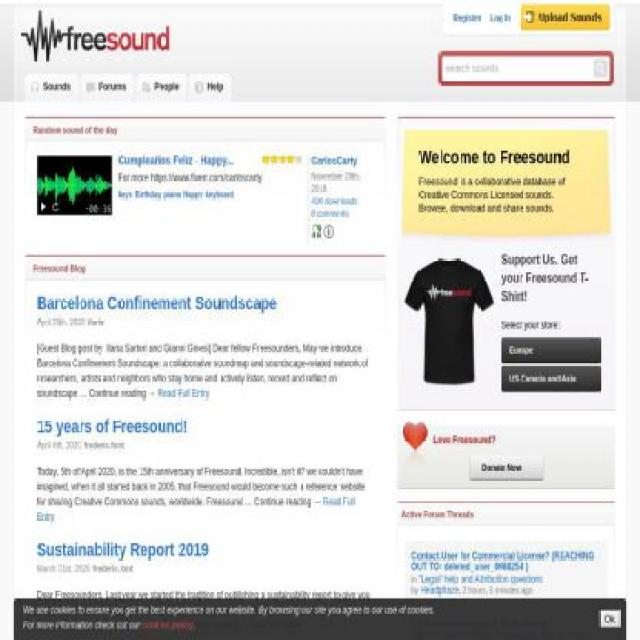button: (410, 551, 602, 572), (502, 338, 600, 364), (502, 366, 600, 392), (469, 455, 548, 480), (412, 618, 546, 630), (83, 72, 135, 102), (28, 72, 78, 102), (138, 72, 188, 102), (192, 72, 232, 102), (452, 4, 482, 31), (489, 4, 511, 31), (598, 609, 620, 628), (206, 189, 237, 200), (135, 189, 162, 200), (183, 189, 205, 200), (49, 198, 62, 216), (37, 198, 49, 216), (310, 224, 322, 242), (164, 189, 182, 200), (118, 189, 134, 200)
field: (442, 56, 590, 79), (594, 59, 608, 78)
